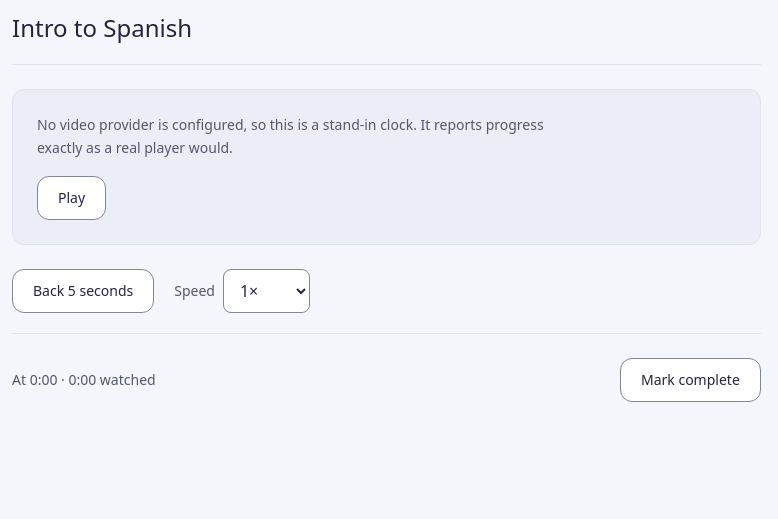
Test case: a subscription that lapses mid-lesson › stops playing rather than continuing to show paid content
Expected: the heading "Intro to Spanish" is shown, left=12, top=11, right=192, bottom=44
Click the button "Play" at (72, 198), box left=37, top=176, right=106, bottom=220
Wait 16000 ms
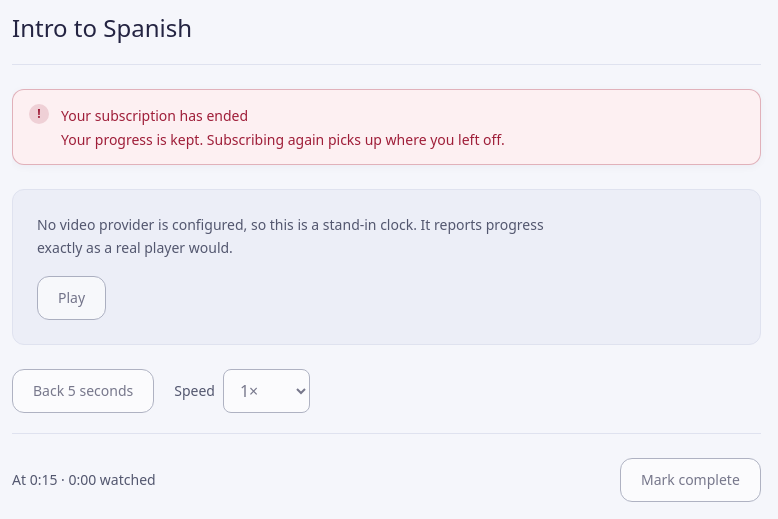
Result: the message shows "subscription has ended" at left=61, top=106, right=248, bottom=125
